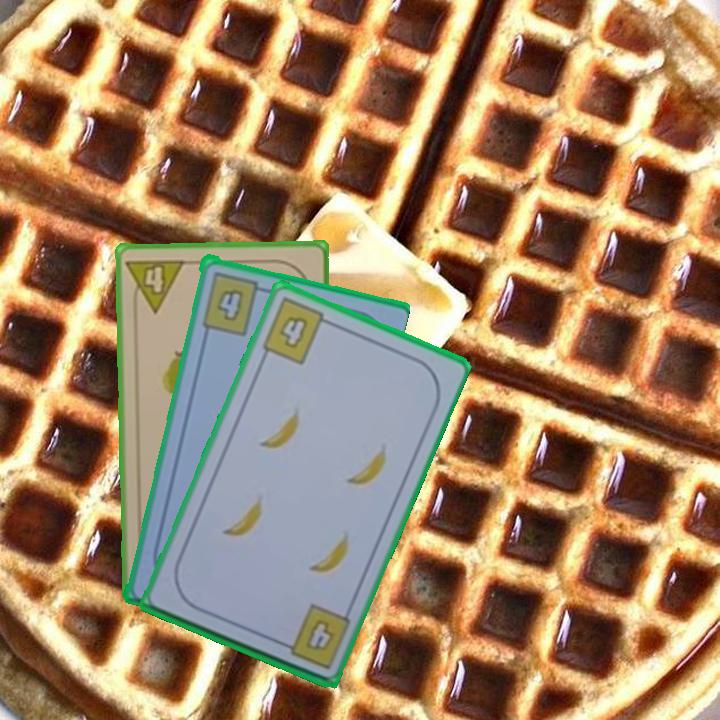4b: (258, 294, 336, 368), (274, 600, 354, 672), (197, 267, 269, 337)
4p: (123, 255, 188, 315)
